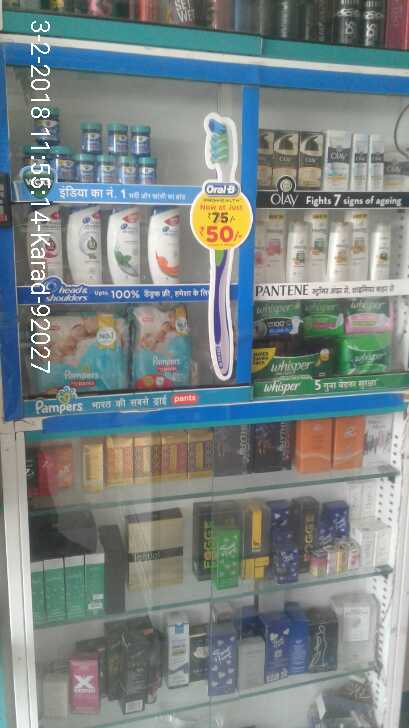vicks: (24, 104, 163, 186)
